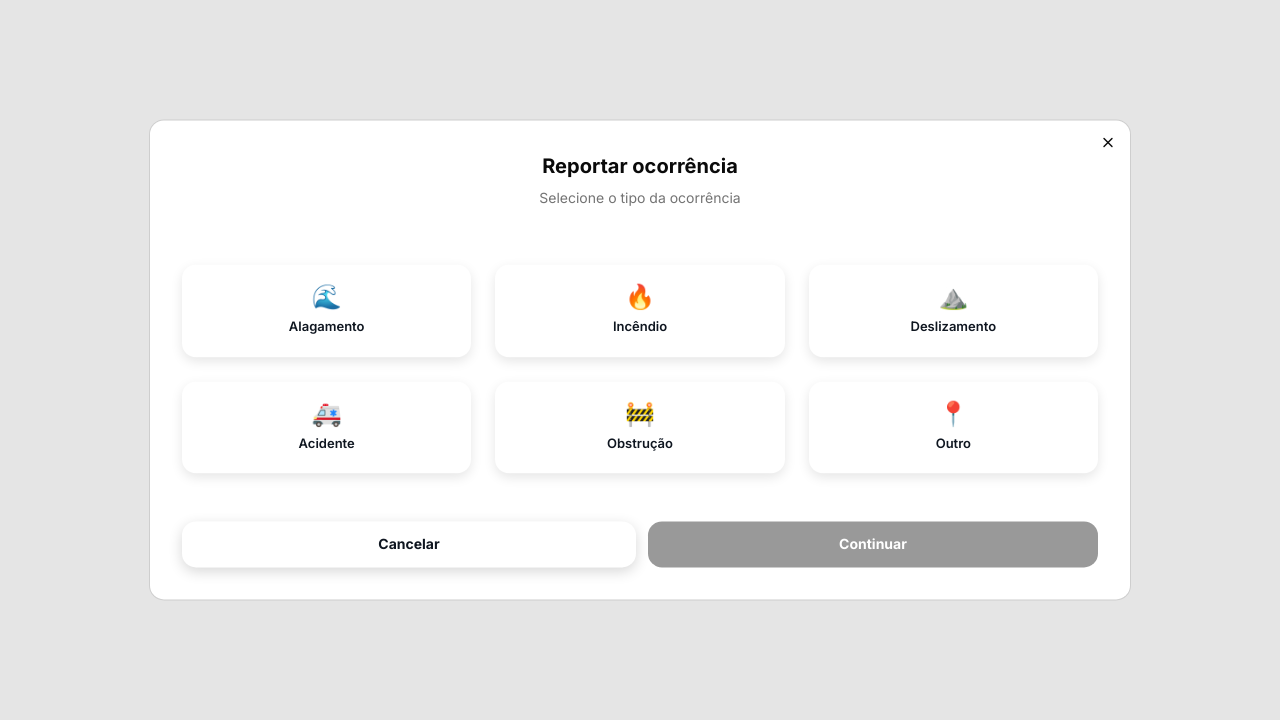
Test: ReportModal › mantem a edicao aberta quando a busca de local falha
Click the text "Alagamento".
click(327, 327)  # box [289,317,364,336]
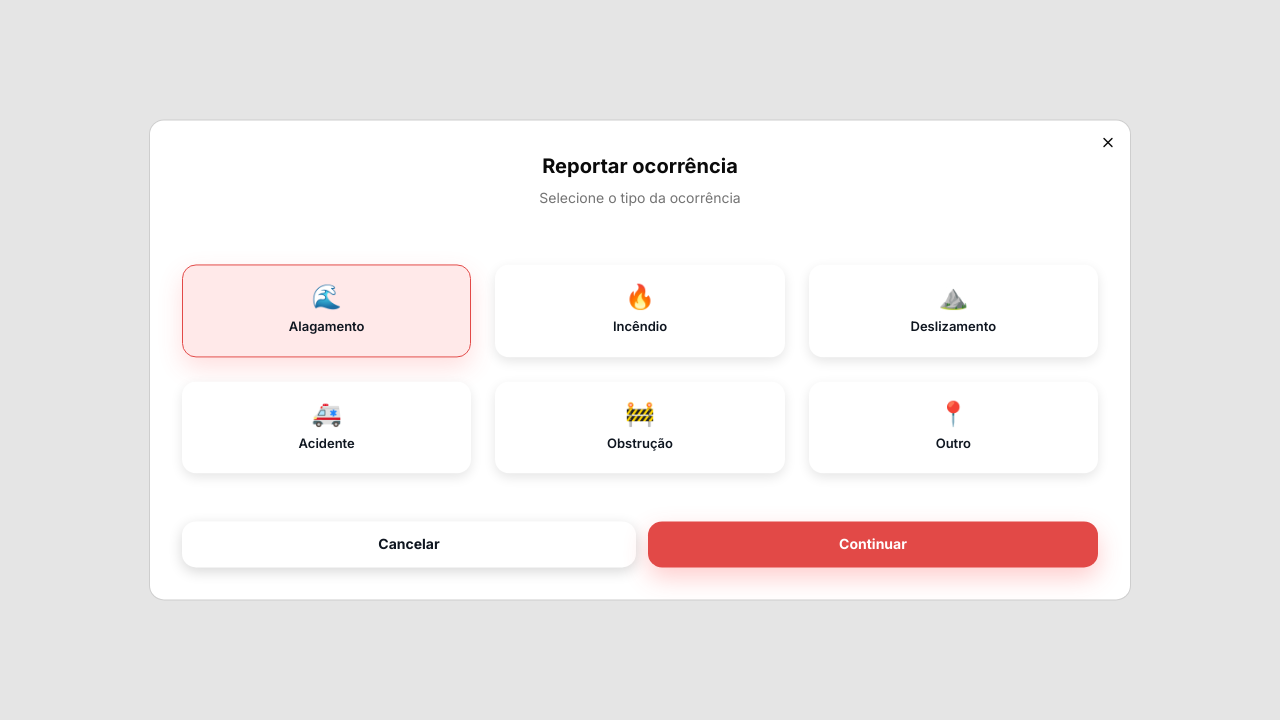
Click the button "Continuar".
click(873, 545)  # box [648,522,1098,568]
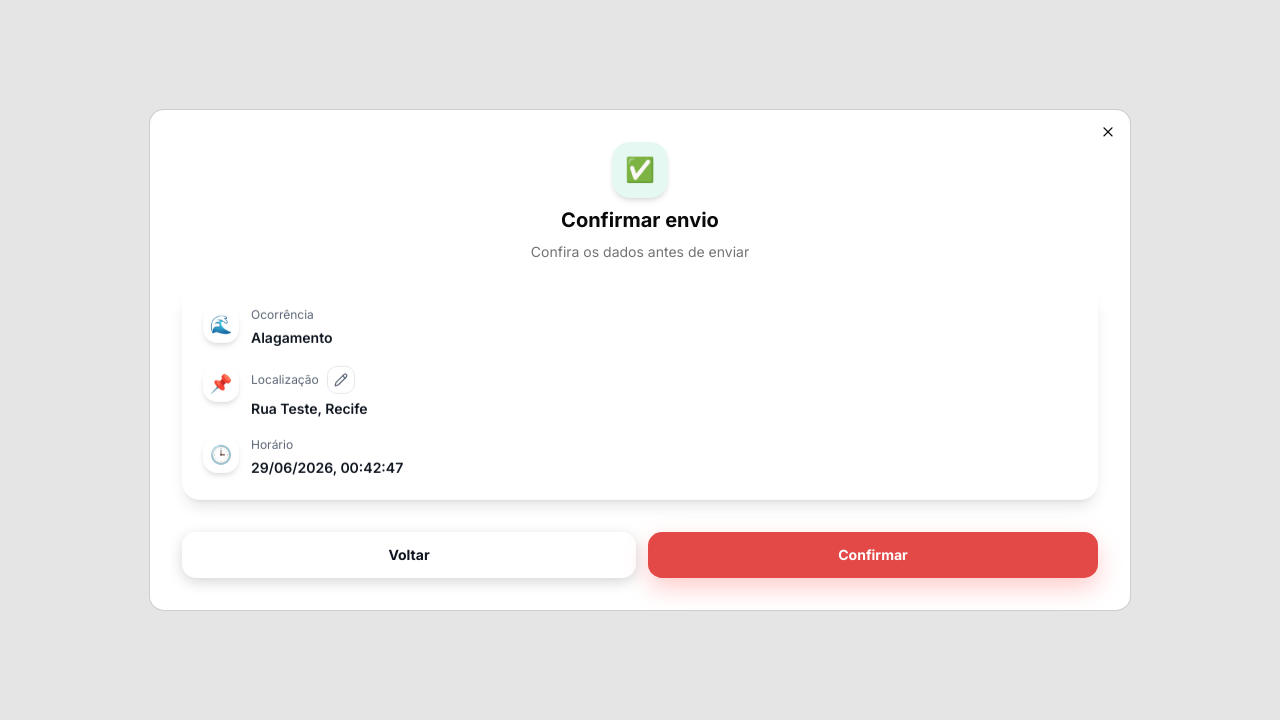
Expected: the heading "Confirmar envio" is shown, [561,208,719,232]
Click the button named "editar localização".
click(341, 380)  # box [327,366,355,394]
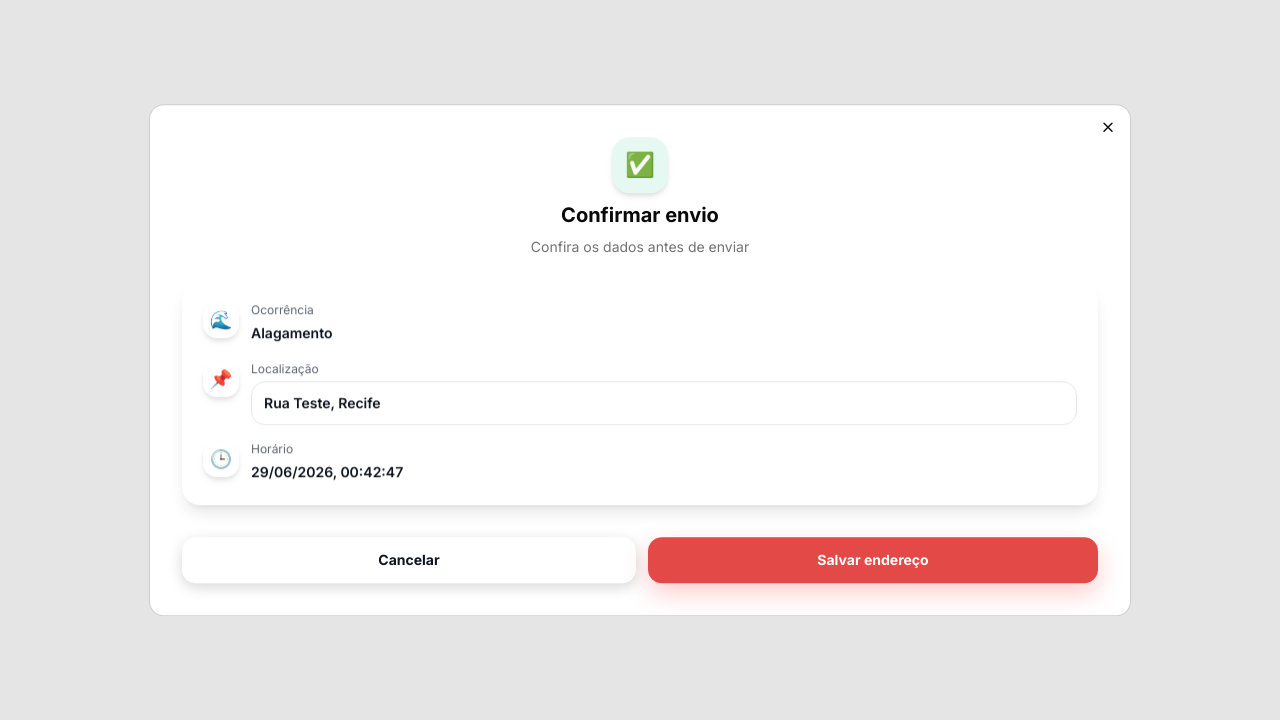
Replace the text in the search field named "novo endereço" with "Lugar inexistente" at (664, 403), box [251,381,1077,425]
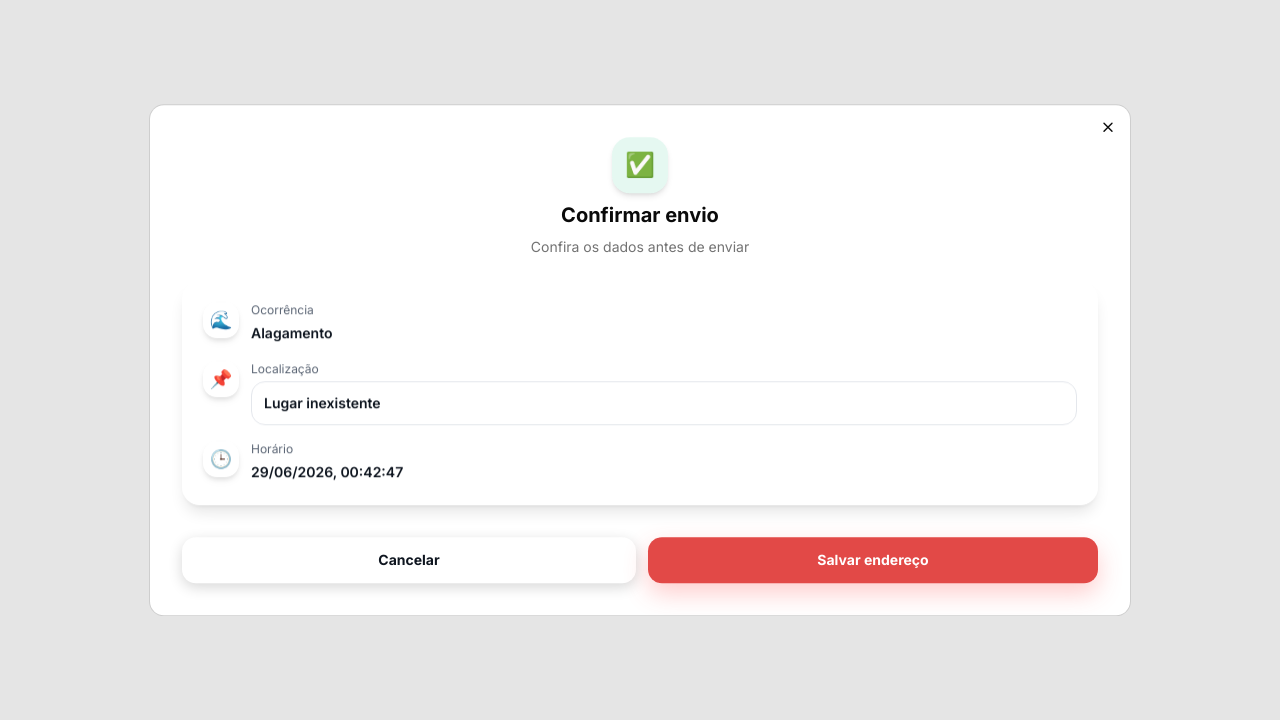
Click the button "Salvar endereço".
click(873, 560)  # box [648,537,1098,583]
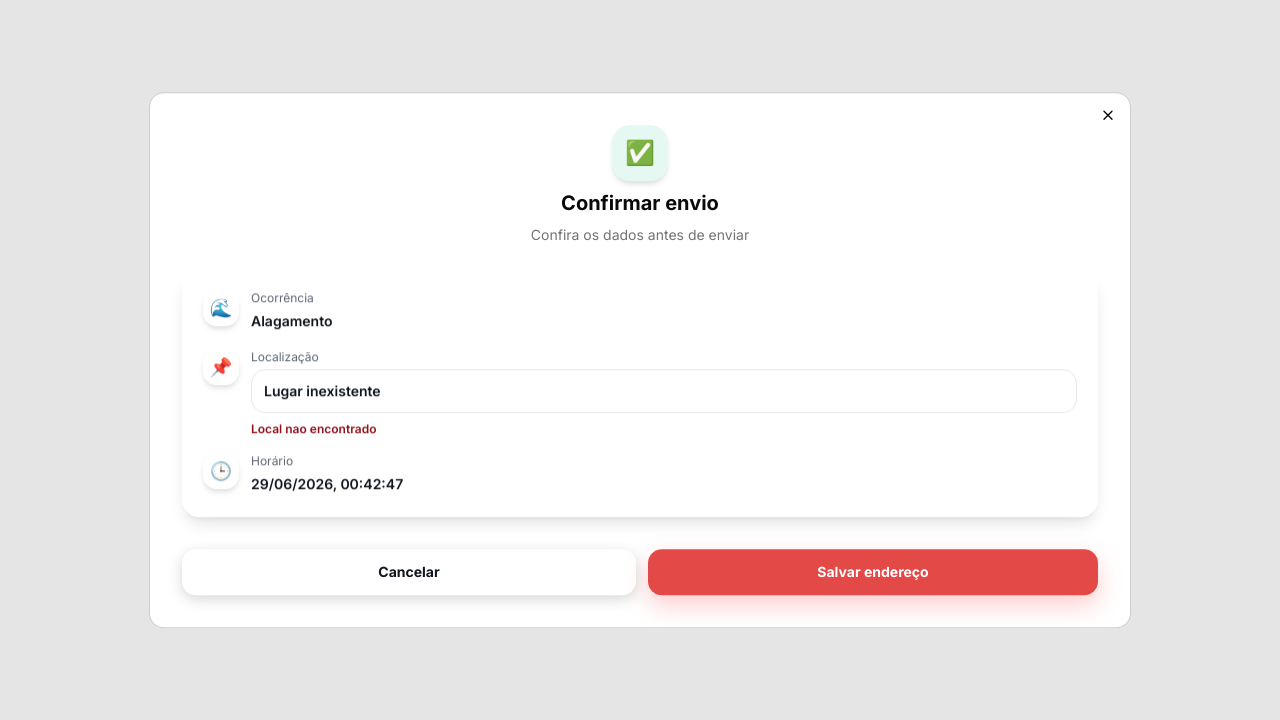
Expected: the text "Local nao encontrado" is shown, [251,421,376,436]
Click the button "Cancelar".
click(409, 572)  # box [182,549,636,595]
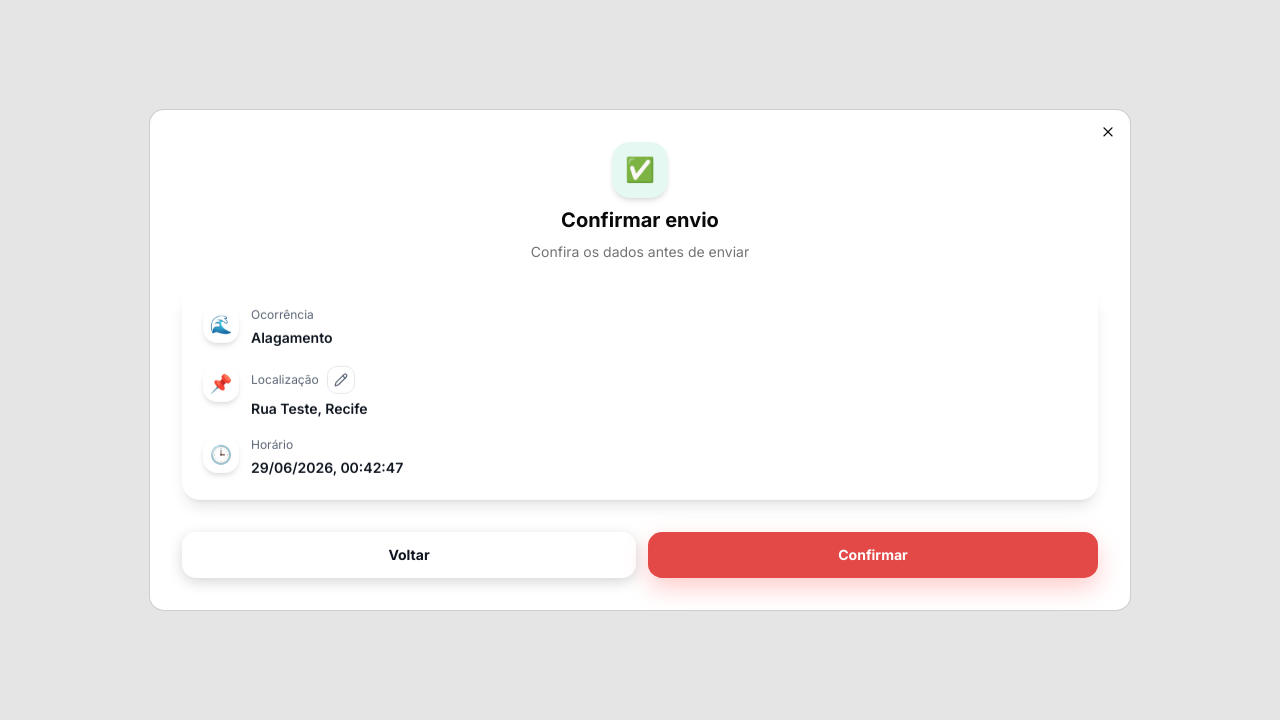
Expected: the text "Rua Teste, Recife" is shown, [251,400,368,417]
